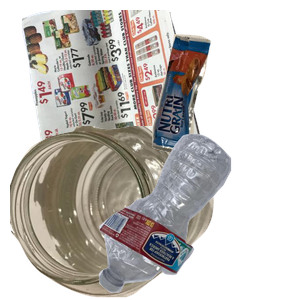glass: (10, 126, 216, 300)
paper: (19, 10, 223, 190)
plastic: (96, 131, 300, 300)
trash: (149, 31, 300, 179)
